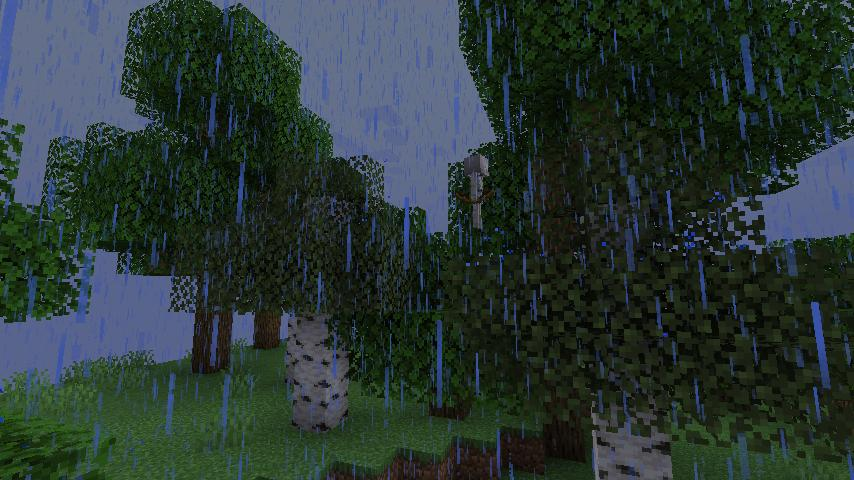skeleton: (454, 153, 497, 232)
